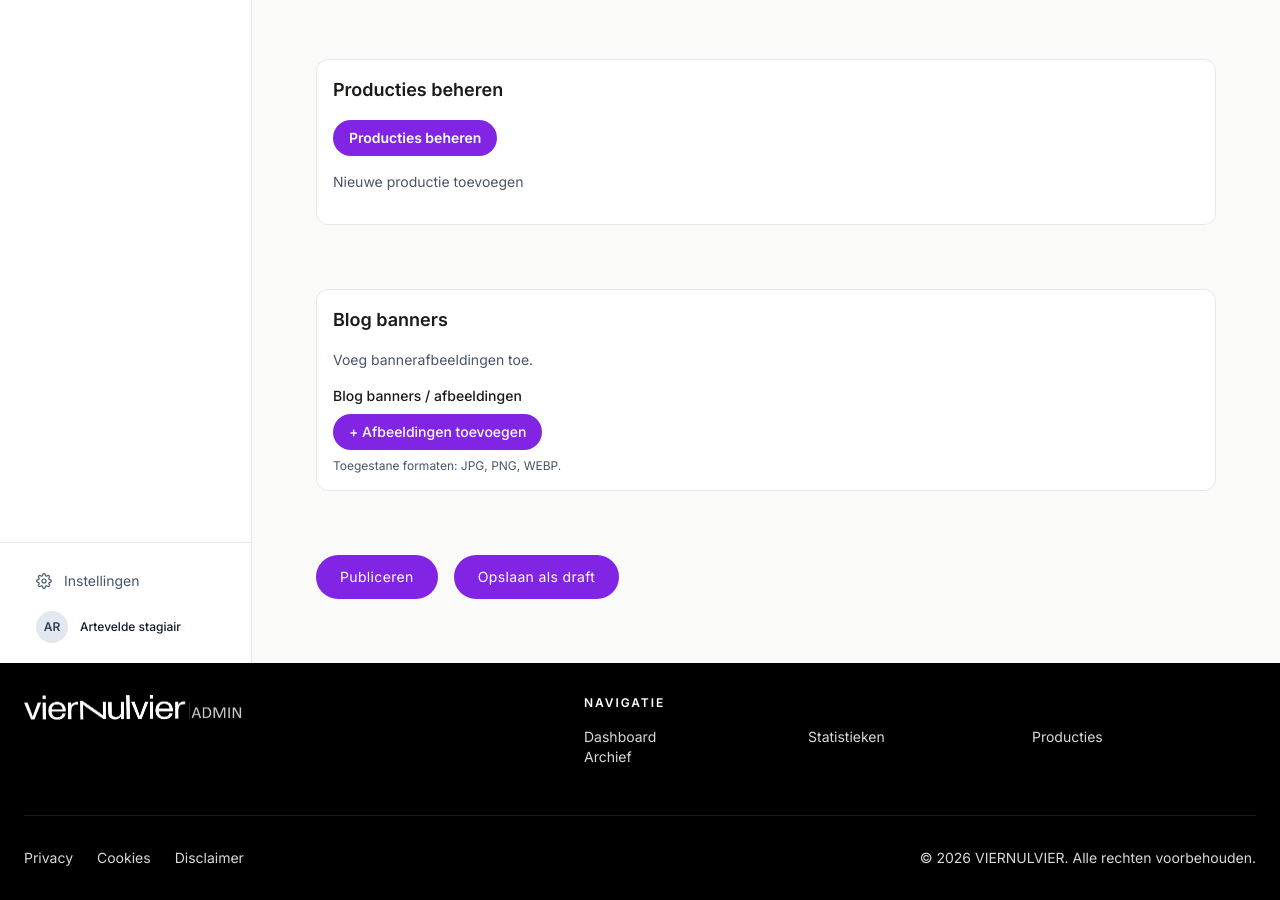
Test: CreateBlogPage › shows an error when nothing is filled in
(page scrolled)
Click the button "Publiceren" at (377, 577), box [316, 555, 438, 599]
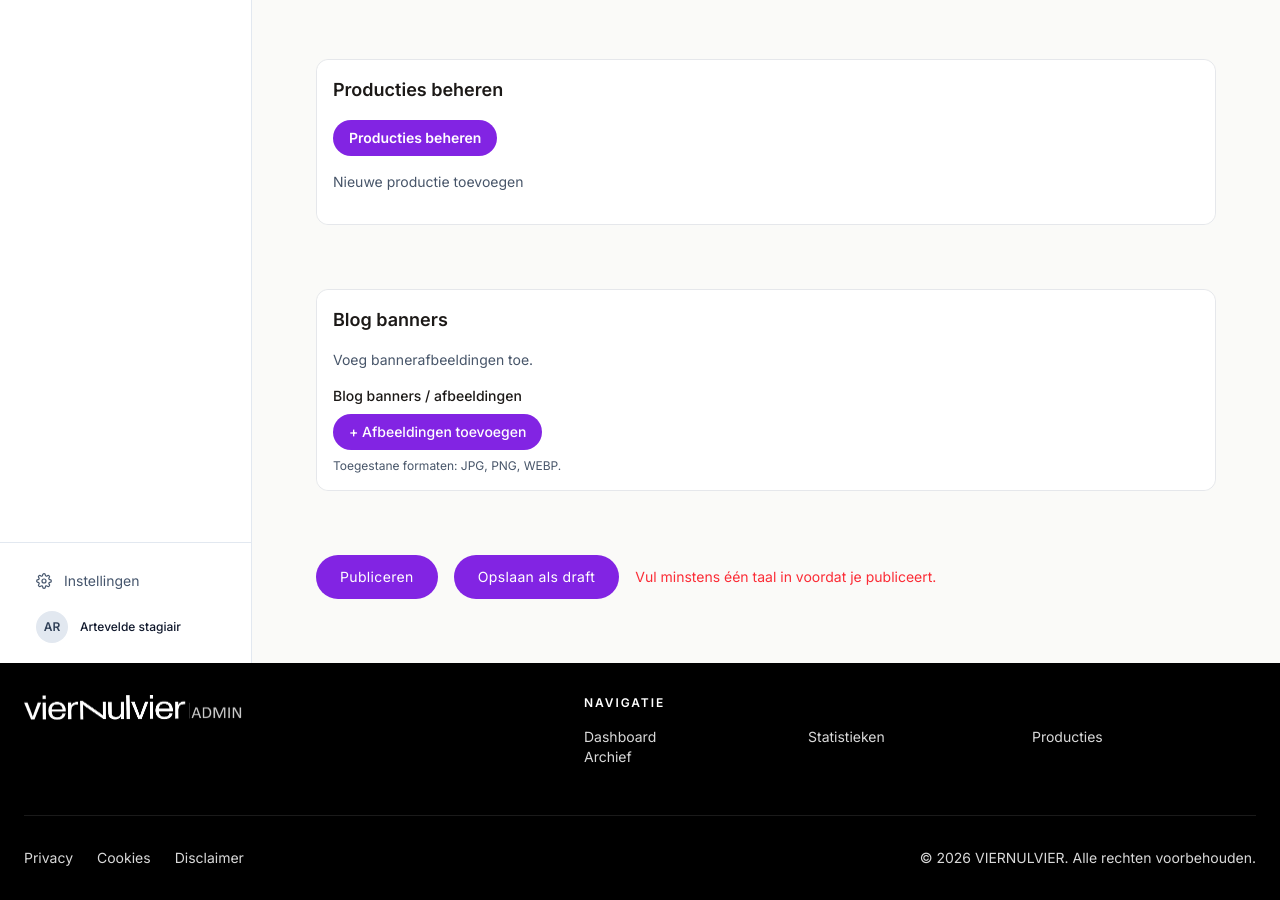
Result: the text "Vul minstens één taal in voordat je publiceert." is shown at [635, 567, 936, 587]
